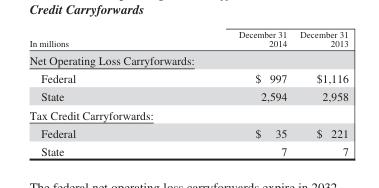table: (28, 29, 347, 157)
table column: (156, 29, 292, 157), (28, 29, 156, 157), (292, 29, 347, 157)
table column header: (28, 29, 347, 50)
table projected row header: (28, 50, 347, 69), (28, 105, 347, 123)
table row: (28, 29, 347, 50), (28, 50, 347, 69), (28, 69, 347, 87), (28, 87, 347, 105), (28, 105, 347, 123), (28, 123, 347, 141), (28, 141, 347, 157)
